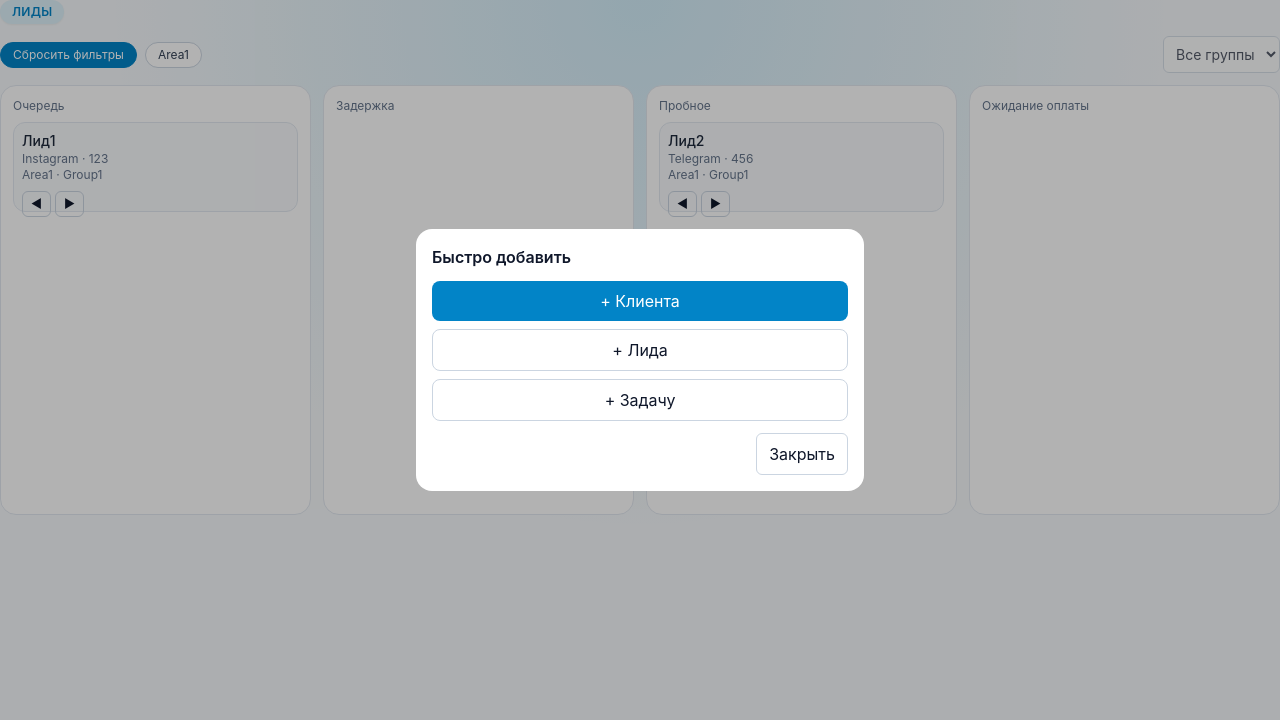
Scenario: create: adds new lead via modal
Click the button "+ Лида": click(640, 350) [432,329,848,371]
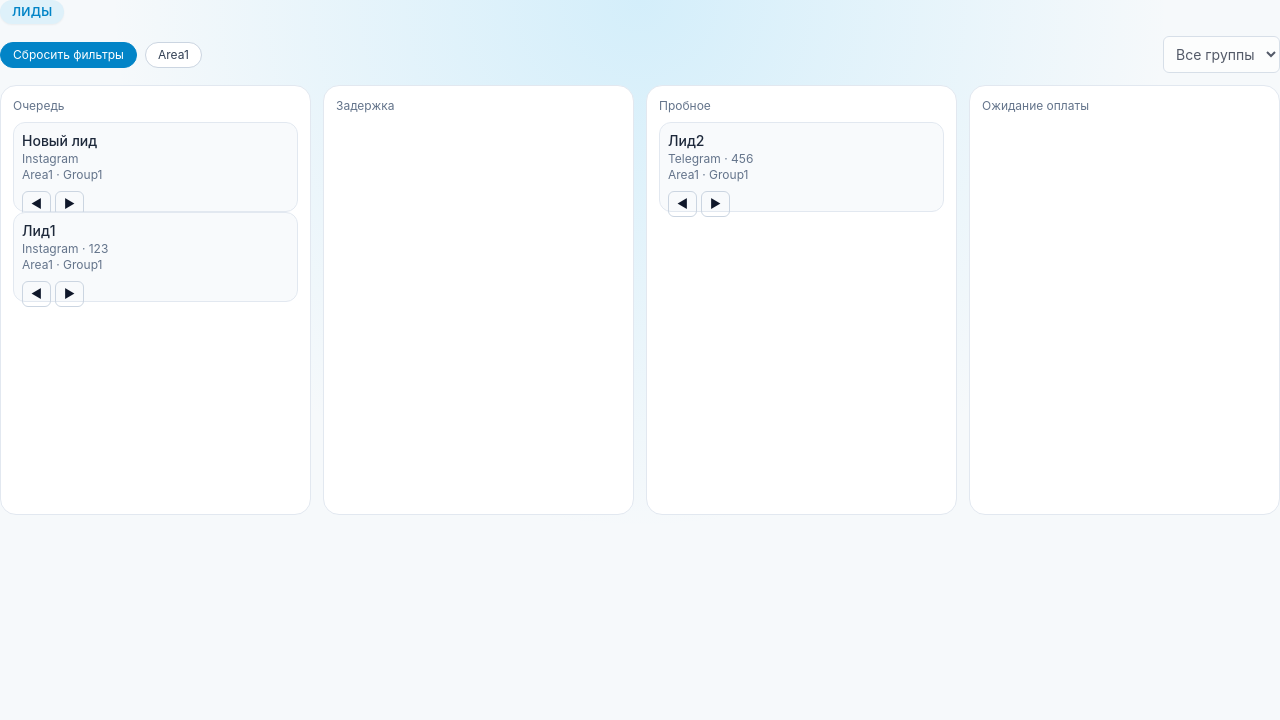
Check: the text "Новый лид" is shown, box [22,132,97,149]
